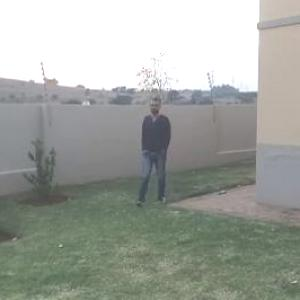follow: (138, 94, 176, 205)
